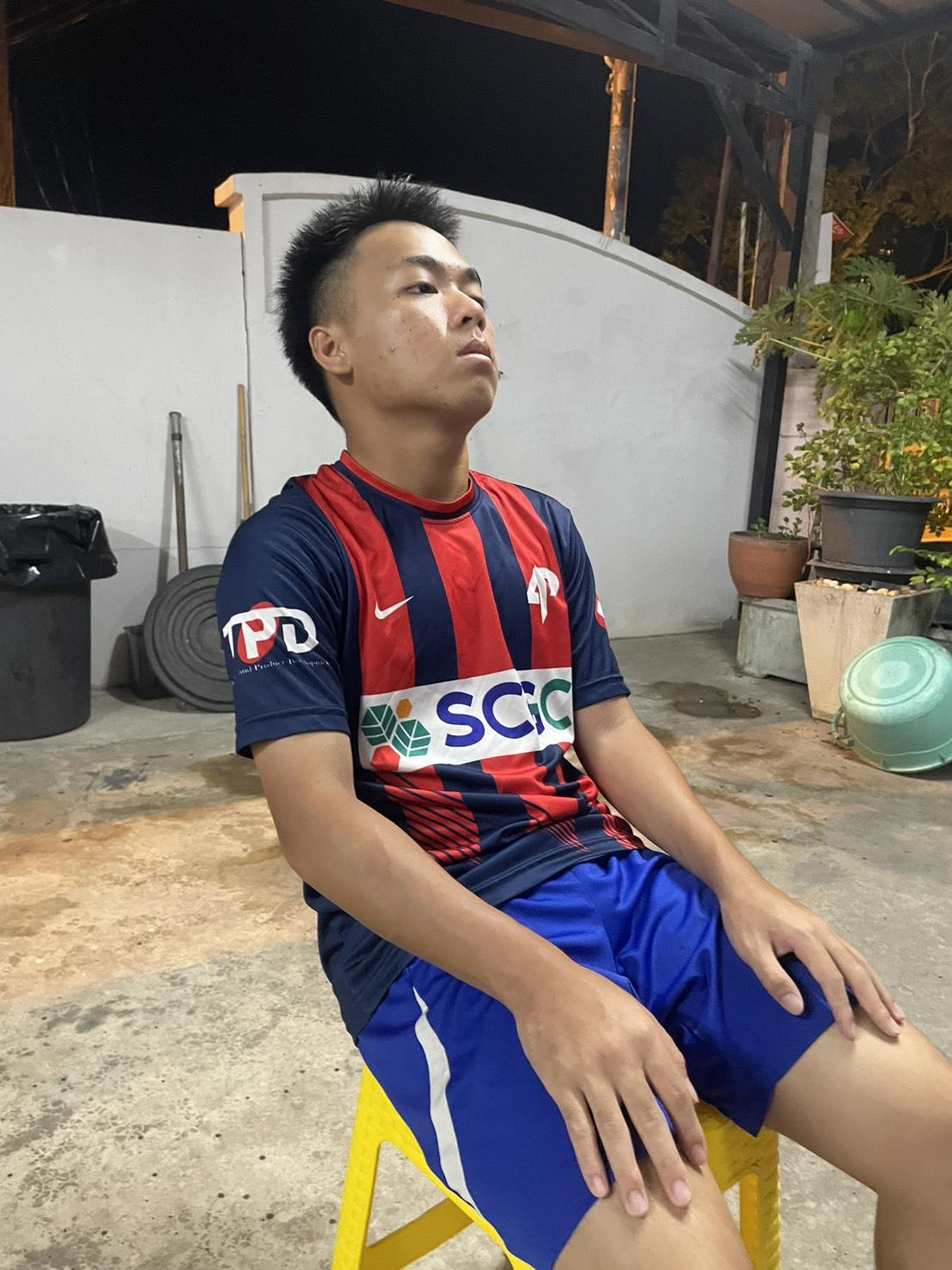BadPosture: (218, 181, 639, 902)
